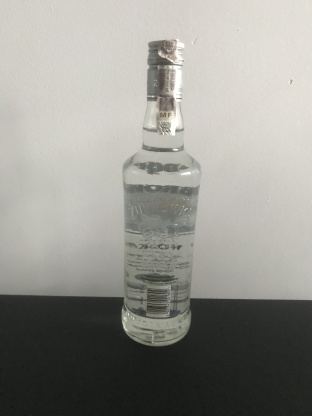nakretka: (145, 38, 185, 100)
